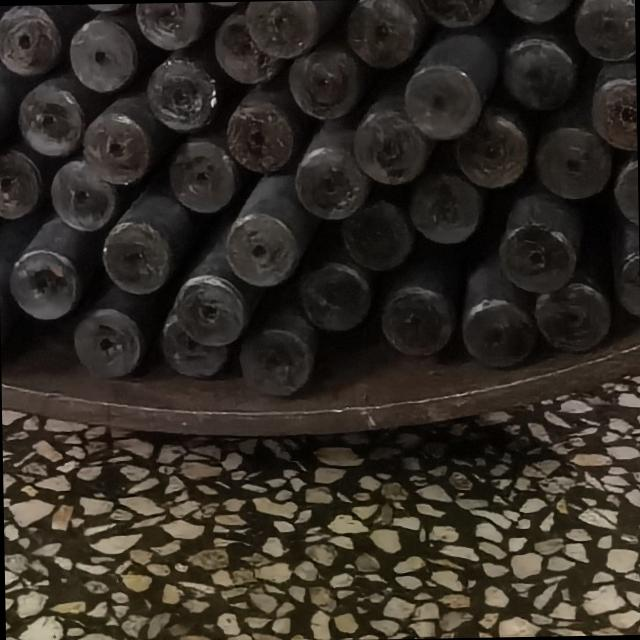tool: (450, 100, 530, 188), (348, 105, 432, 184), (99, 216, 179, 294), (534, 280, 614, 354), (496, 40, 578, 112), (295, 144, 371, 221), (223, 212, 300, 288), (406, 67, 484, 142), (407, 172, 484, 246), (532, 124, 610, 197), (290, 41, 364, 116), (64, 307, 142, 378), (341, 0, 423, 67), (239, 332, 316, 402), (147, 51, 215, 130), (337, 198, 411, 270), (462, 298, 538, 368), (19, 72, 84, 153), (228, 98, 298, 173), (67, 17, 136, 92), (48, 154, 116, 230), (500, 220, 576, 288), (168, 134, 234, 210), (383, 287, 454, 357), (84, 110, 152, 183), (212, 14, 281, 84), (302, 262, 372, 330), (10, 250, 80, 318), (172, 277, 244, 342), (248, 0, 326, 56), (0, 4, 63, 73), (162, 315, 228, 379), (592, 59, 638, 150), (575, 0, 635, 59), (0, 143, 40, 220), (136, 2, 201, 47), (416, 0, 500, 29), (612, 151, 638, 228), (500, 0, 574, 25), (618, 252, 640, 320)
